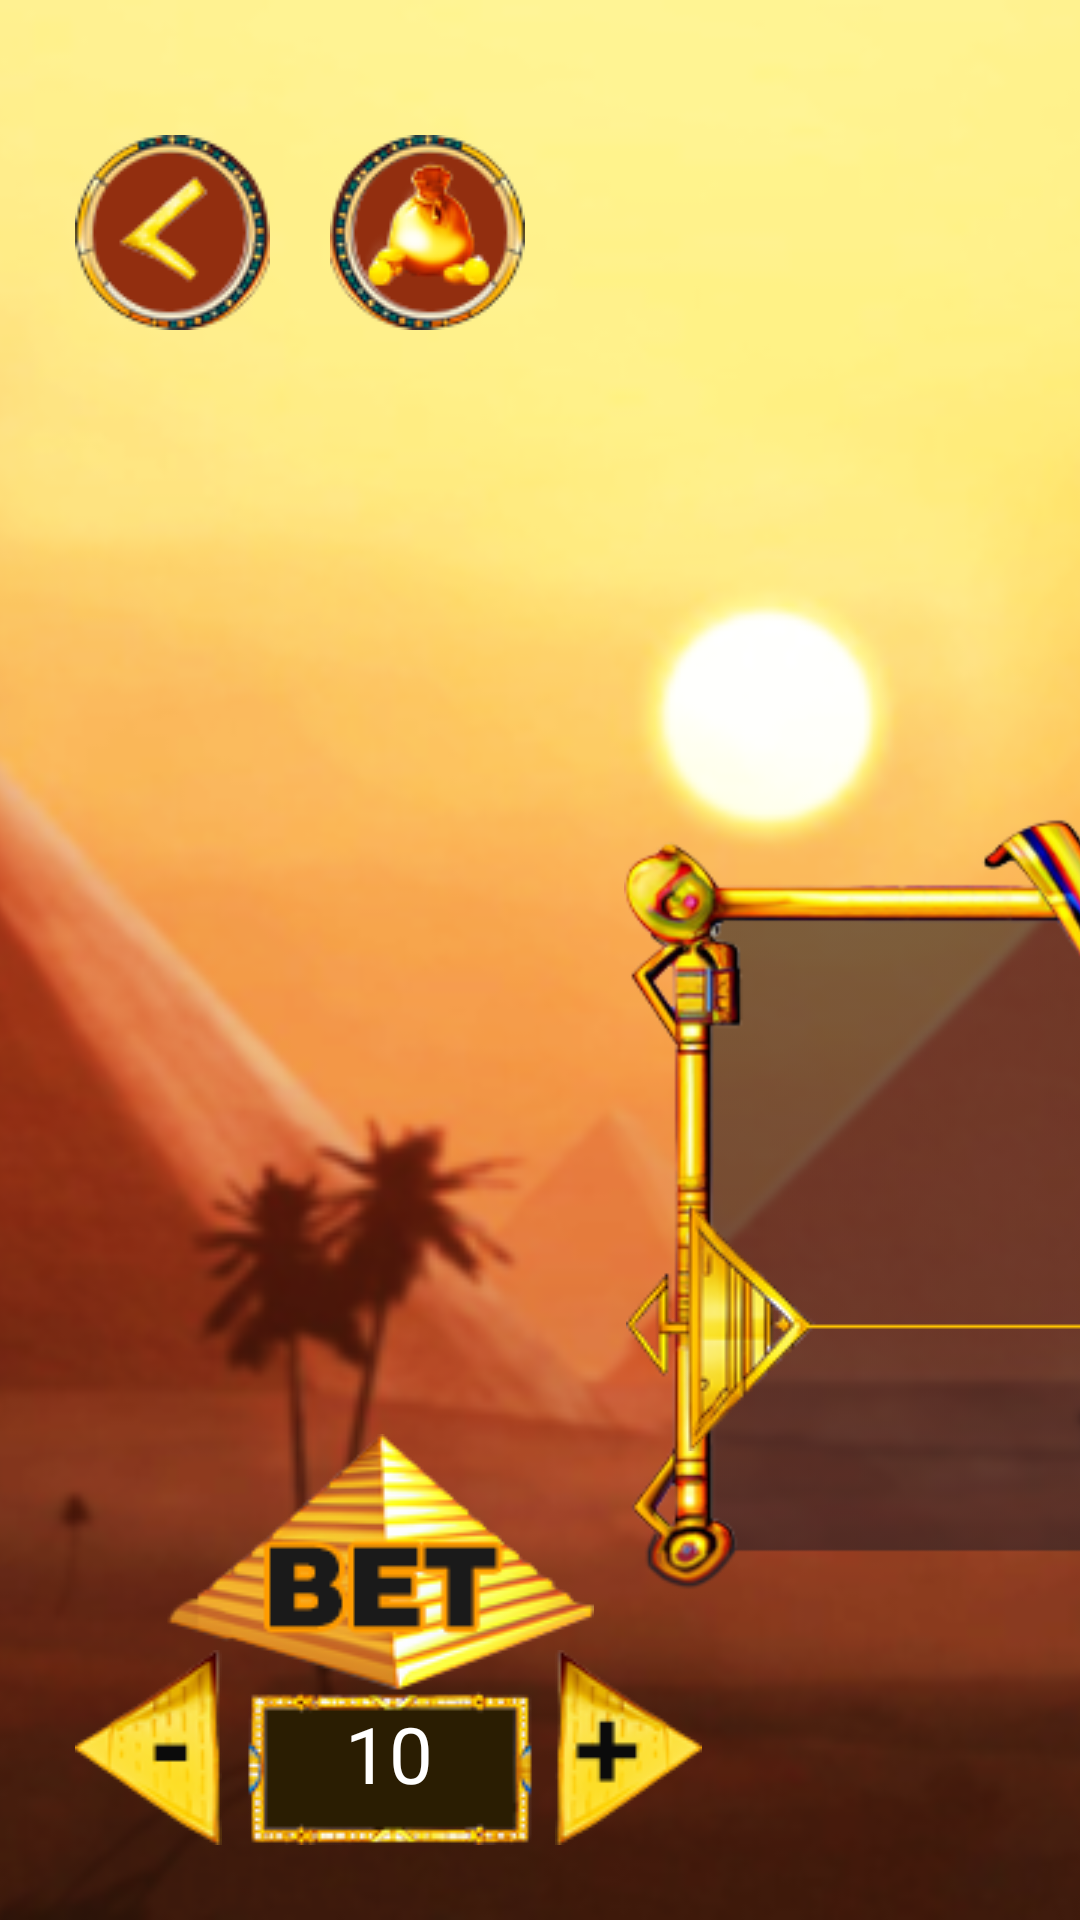

Screen size 1080 × 1920. Icon name, then its box in pixels as bbox(x1, y1, x2, y2):
bott back: bbox(75, 135, 270, 330)
bott bonus: bbox(330, 135, 525, 330)
plus: bbox(555, 1650, 702, 1845)
